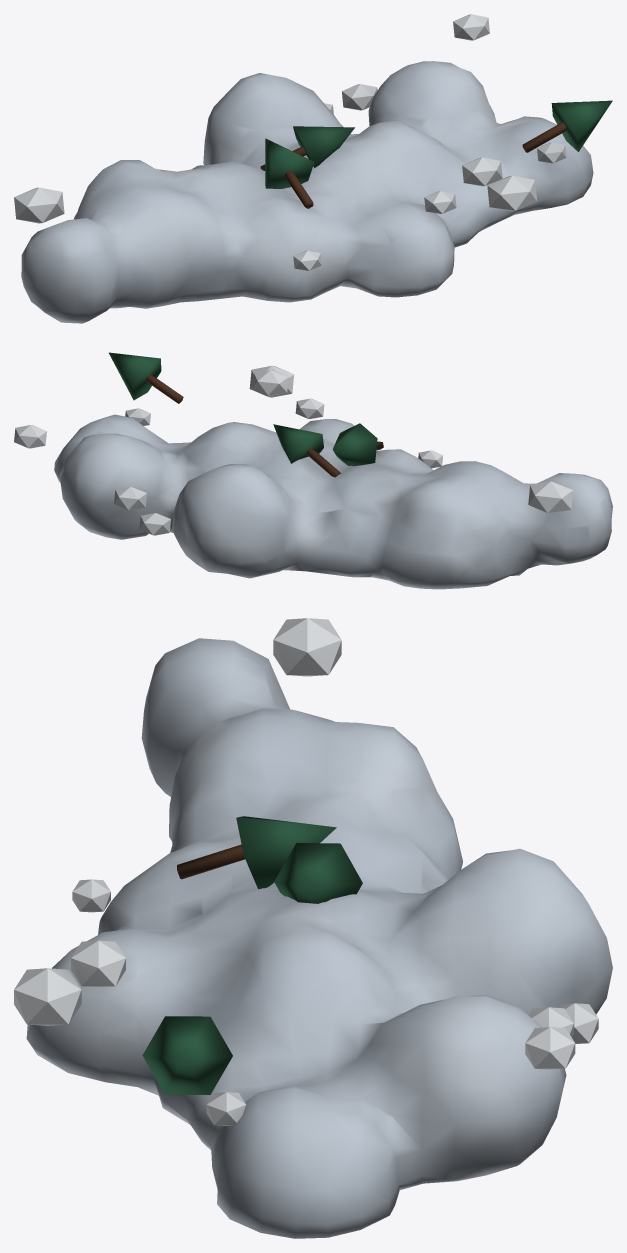
The model's file is prop.glacier_snowpile.glb.
3 views of the same model, one above another, from view 1: azimuth 30°, elevation 25°; view 2: azimuth 150°, elevation 25°; view 3: azimuth 270°, elevation 25° (orthographic). The views are drawn at different scales.
Visible parts, largest first — view 1: glacier_snowpile; view 2: glacier_snowpile; view 3: glacier_snowpile.
Part boxes in pixels (x1,y1,x2,y2): glacier_snowpile: (14,14,612,323); glacier_snowpile: (14,352,612,589); glacier_snowpile: (14,618,612,1238).
Size of the model in its own units: 24.06 by 4.96 by 13.17.
